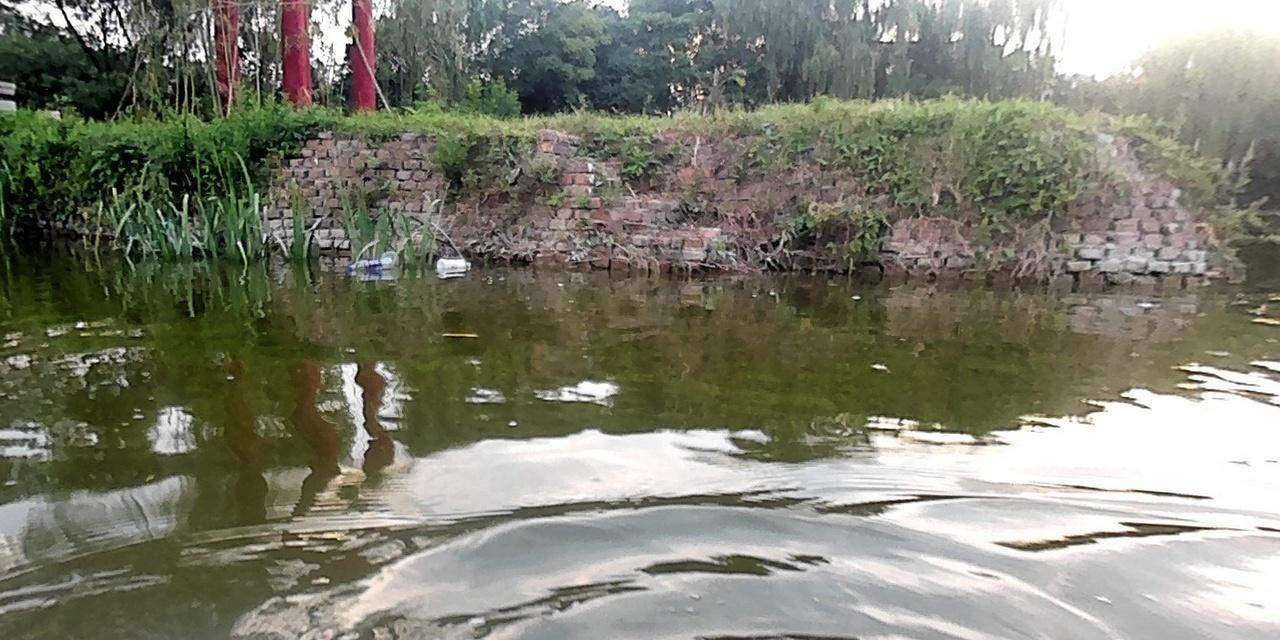bottle: (341, 256, 393, 274), (432, 255, 471, 272)
